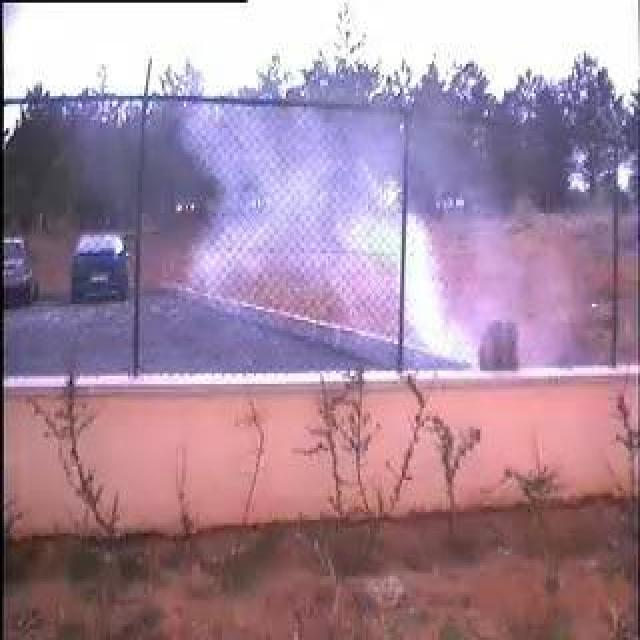Smoke: (183, 114, 473, 370)
